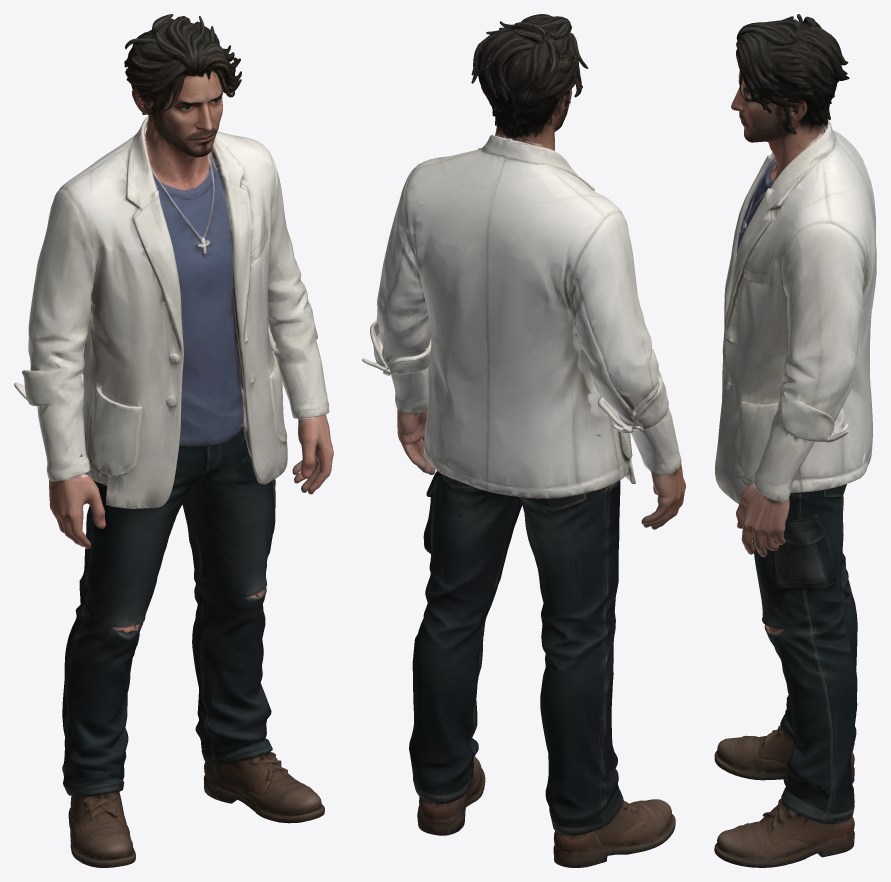
Rendered from antonio.glb.
3 views of the same model, side by side, from view 1: azimuth 30°, elevation 25°; view 2: azimuth 150°, elevation 25°; view 3: azimuth 270°, elevation 25° (orthographic).
Visible parts, largest first — view 1: Mesh_0; view 2: Mesh_0; view 3: Mesh_0.
Part boxes in pixels (<box>): Mesh_0: <box>14,14,333,867</box>; Mesh_0: <box>362,14,685,867</box>; Mesh_0: <box>714,14,876,867</box>.
Size of the model in its own units: 0.7046 by 1.9 by 0.3525.
1 material, 1 textured.
